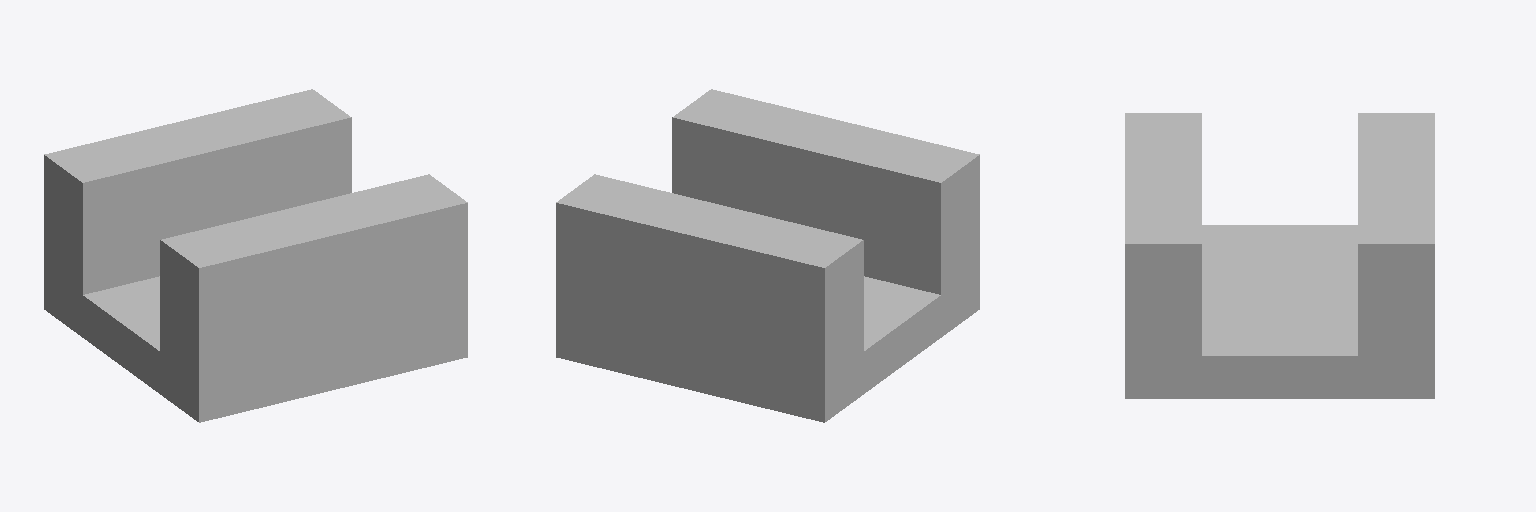
The model's file is tile062.obj.
The picture shows the model from 3 angles: view 1: azimuth 30°, elevation 25°; view 2: azimuth 150°, elevation 25°; view 3: azimuth 270°, elevation 25°; orthographic projection.
Parts seen in each view (by area): view 1: tile062; view 2: tile062; view 3: tile062.
Boxes of the visible parts, <box> form: tile062: <box>44,89,467,422</box>; tile062: <box>556,89,979,422</box>; tile062: <box>1125,113,1434,398</box>.
Size of the model in its own units: 1 by 0.55 by 1.